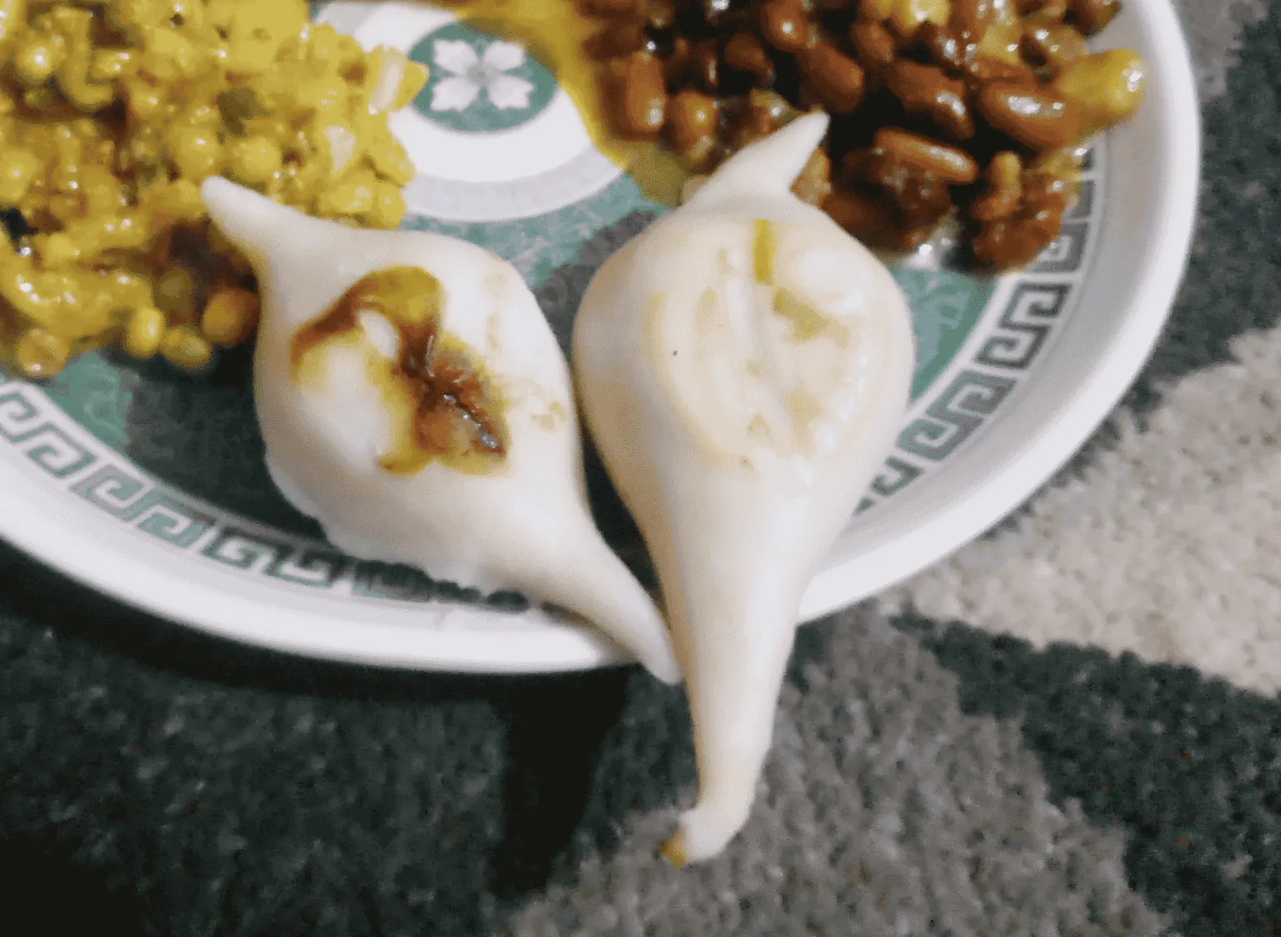yomari: (636, 100, 867, 871), (177, 154, 553, 575)
